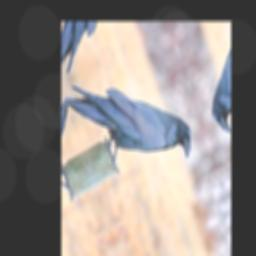Crow: (63, 33, 199, 209)
